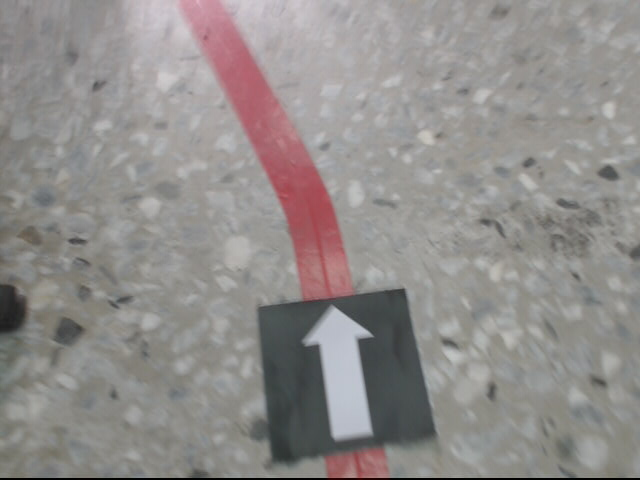straight: (259, 289, 441, 461)
